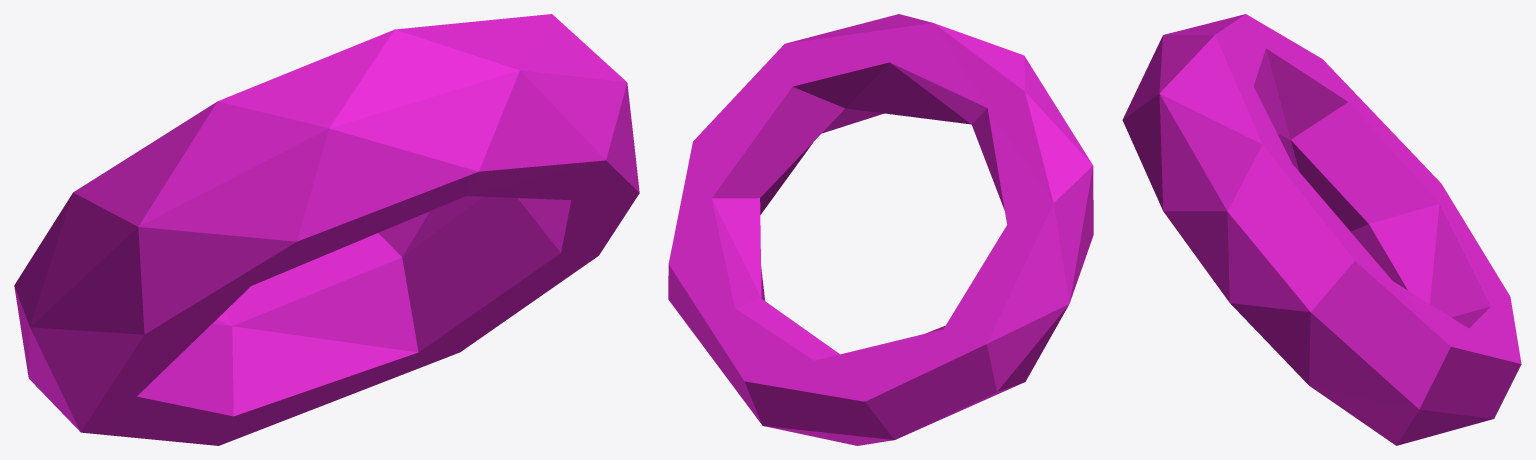
Rendered from donut-low-poly.glb.
The picture shows the model from 3 angles, left to right: view 1: azimuth 30°, elevation 25°; view 2: azimuth 150°, elevation 25°; view 3: azimuth 270°, elevation 25°; orthographic projection. The views are drawn at different scales.
Visible parts, largest first — view 1: Torus; view 2: Torus; view 3: Torus.
Boxes of the visible parts, x1=… form: Torus: x1=14, y1=14, x2=639, y2=445; Torus: x1=668, y1=14, x2=1093, y2=445; Torus: x1=1122, y1=14, x2=1521, y2=445.
Size of the model in its own units: 2.5 by 2.12 by 1.99.
